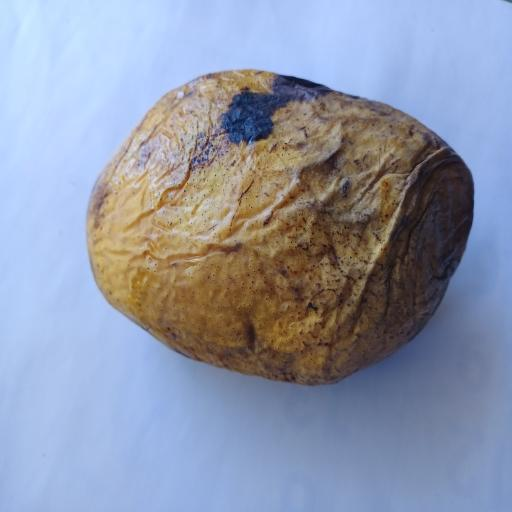mango-overripe: (80, 48, 485, 396)
